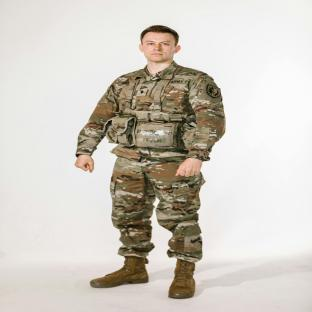Human: (75, 25, 225, 298)
